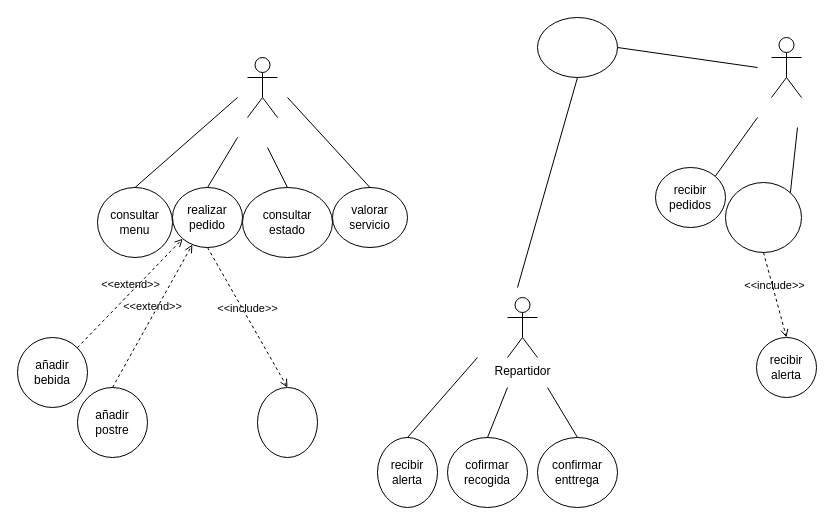
Some shapes in this 834 by 525 pixel diagram are drawn without their labels. The shapes that lost their labels are listed below. From the top down, each one's centre as x and y in pixels, then its label:
(577,47): login
(786,67): Encargado
(262,87): Cliente
(763,217): avisar pedido listo
(287,422): pago paypal
